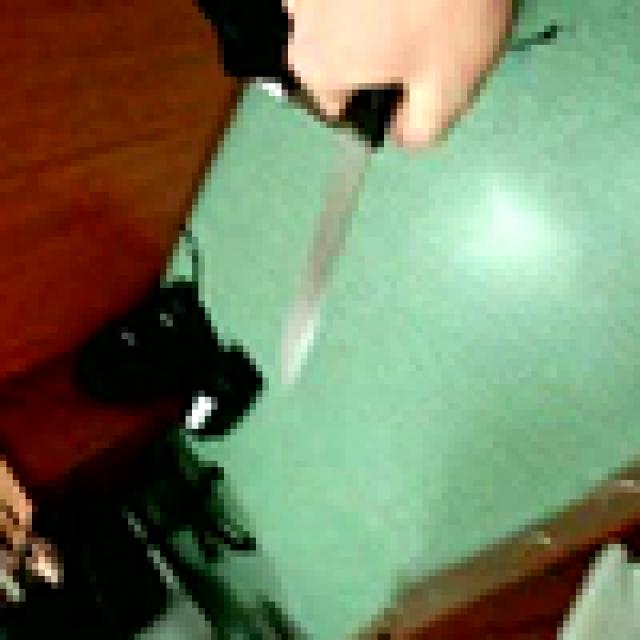Knife: (268, 77, 409, 390)
